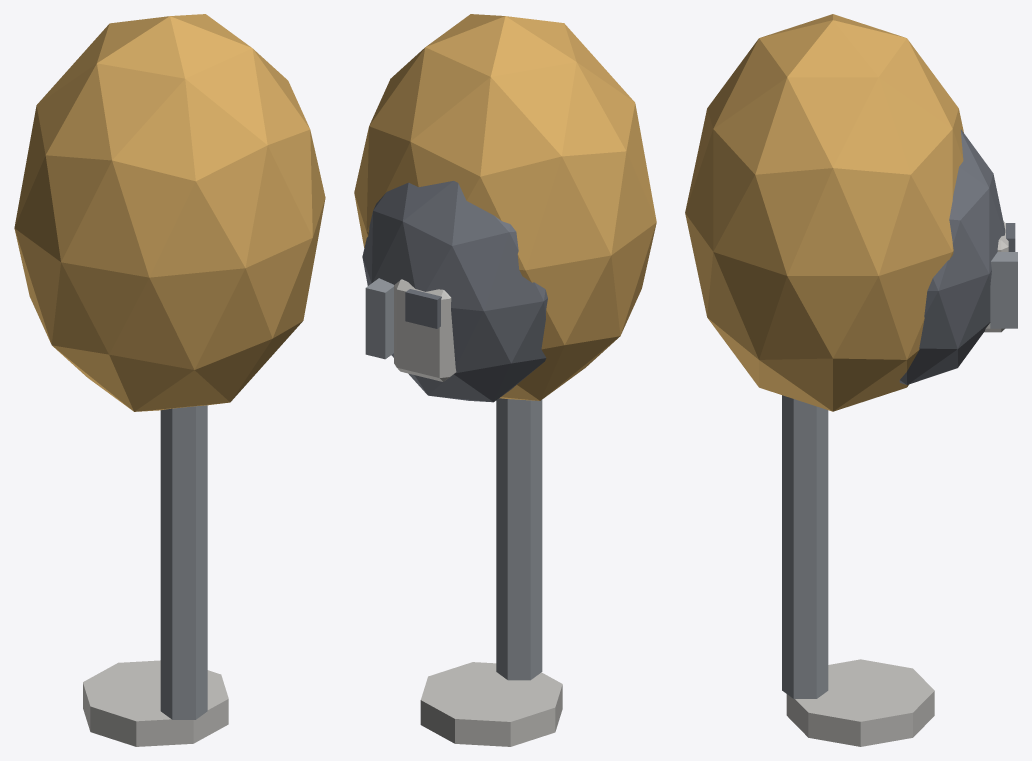
The model's file is mobiliario__orelhao.glb.
3 renders of one model, left to right at view 1: azimuth 30°, elevation 25°; view 2: azimuth 150°, elevation 25°; view 3: azimuth 270°, elevation 25°, orthographic. The views are drawn at different scales.
Visible parts, largest first — view 1: mobiliario__orelhao; view 2: mobiliario__orelhao; view 3: mobiliario__orelhao.
Part boxes in pixels (box(x1,y1,x2,y2)): mobiliario__orelhao: box(14, 14, 325, 746); mobiliario__orelhao: box(354, 14, 656, 746); mobiliario__orelhao: box(685, 14, 1017, 746).
Bounding box in the file's own units: 0.3234 × 0.83 × 0.36.
